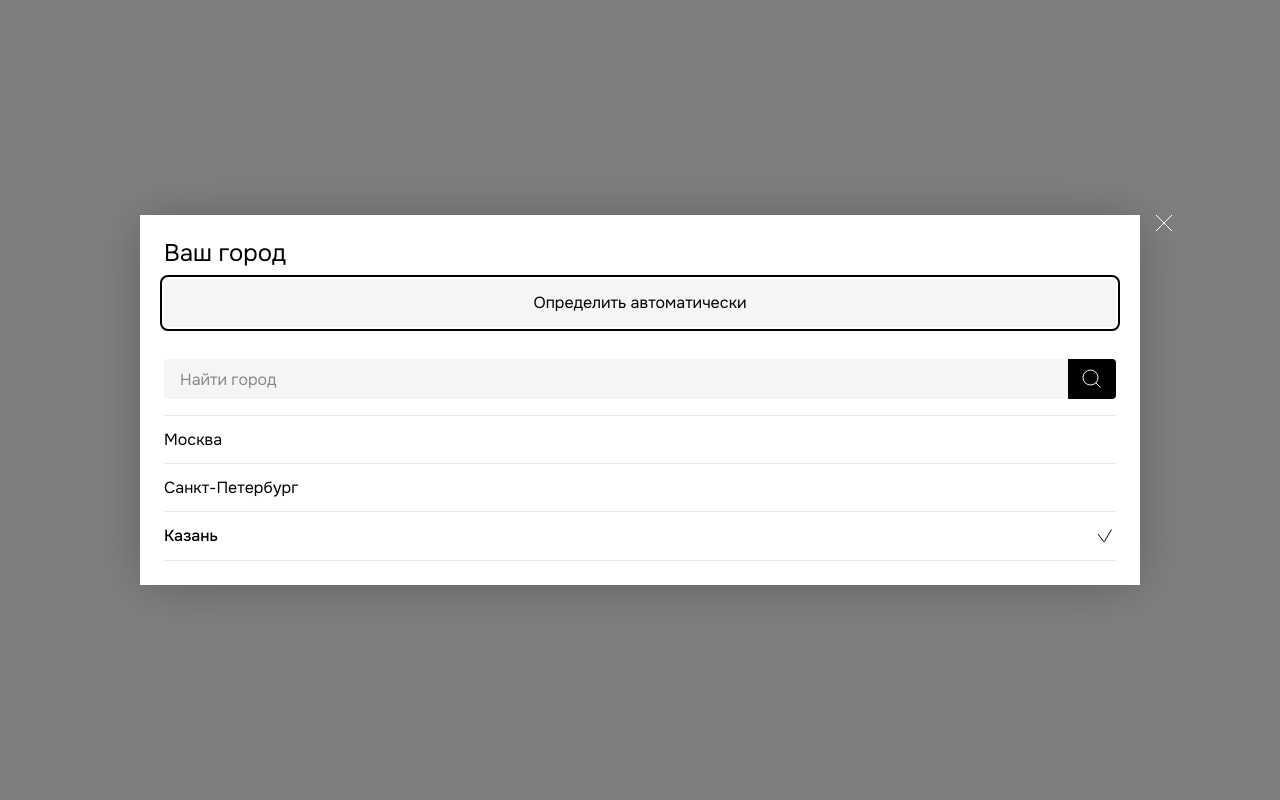
it: CityModal automatic search › says so when the position is refused, keeping the city
Click the button "Определить автоматически" at (640, 303), box [164,279,1116,327]
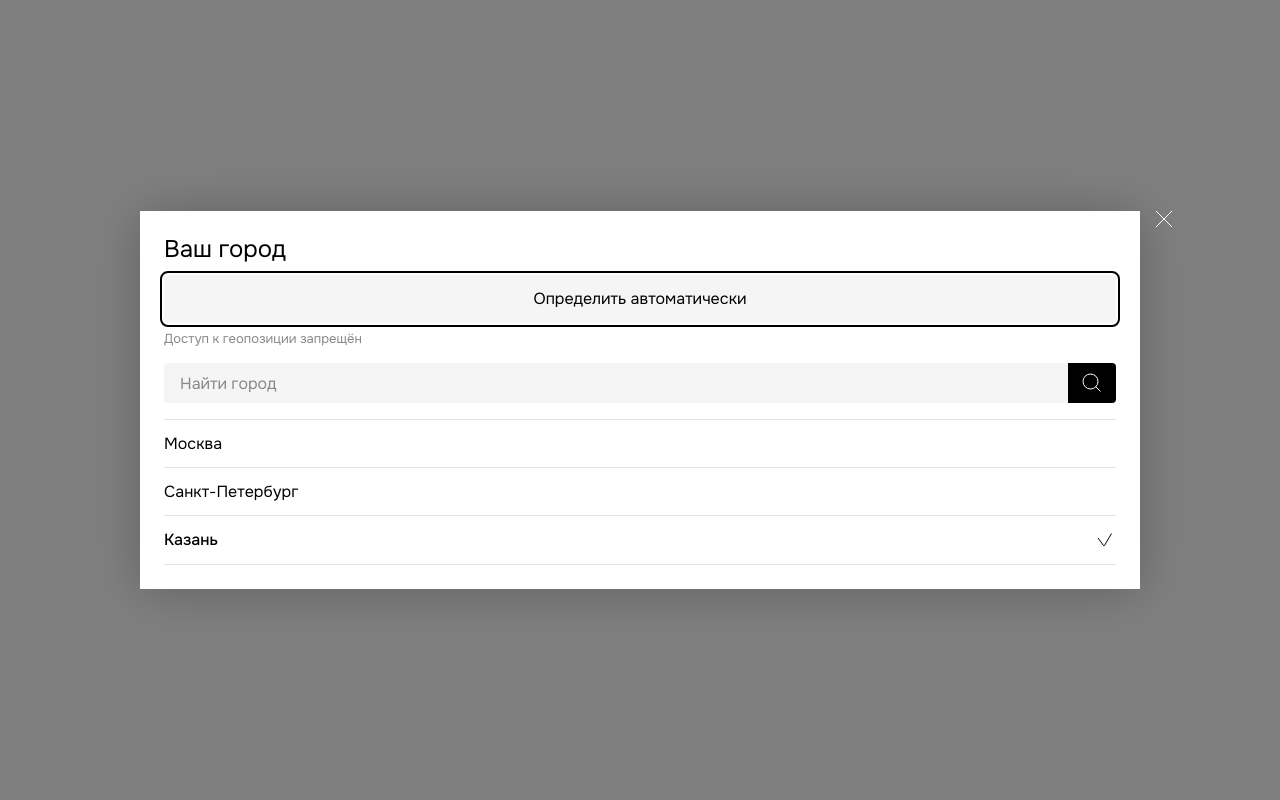
Expected: the text "Казань" is shown, [164,530,218,550]
Now the message reads "Доступ к геопозиции запрещён", box [164,330,362,347]
